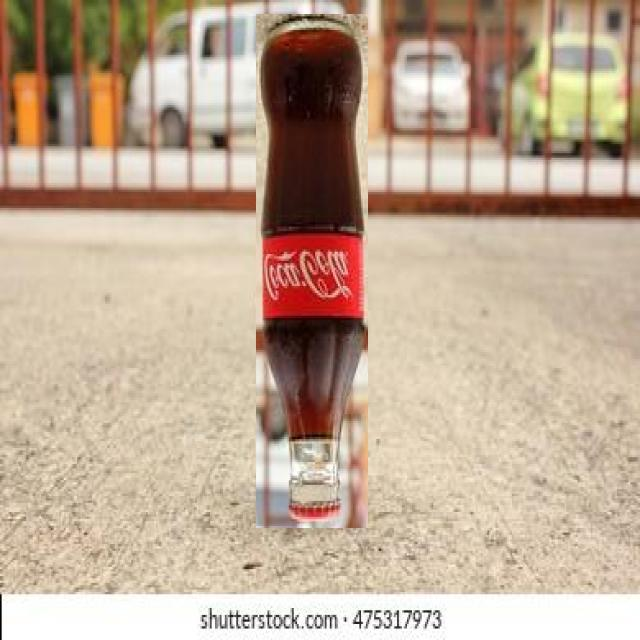coca-cola: (256, 14, 368, 528)
